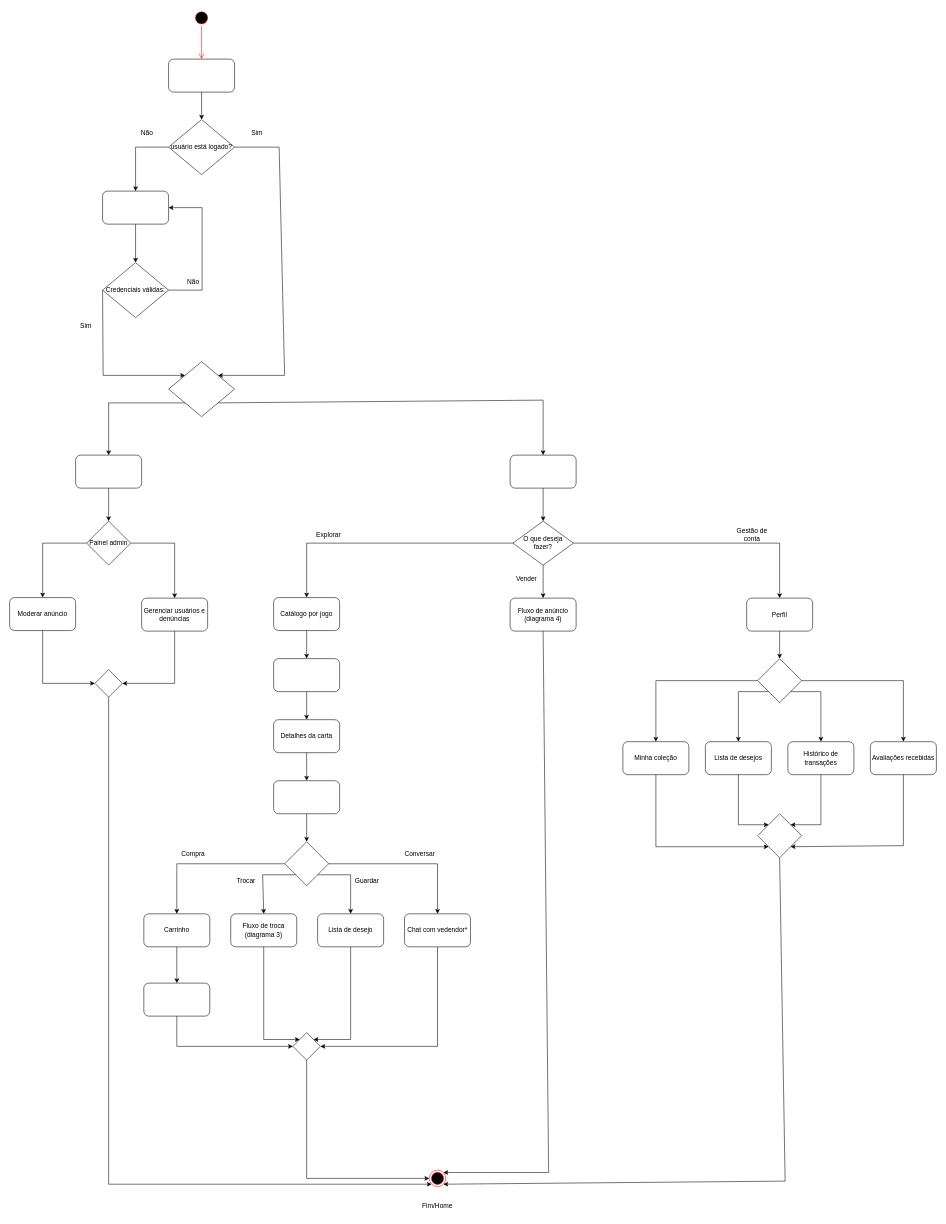
Image size: 946x1224. Some labels were removed from this diagram. The shapes that lost their labels are listed below. From the top down, each one's box as (x1, y1, x2, y2) in pixels, then its label:
(168, 59, 235, 92): HOME
(102, 191, 169, 224): Login / cadastro
(168, 361, 235, 417): Perfil de Acesso
(75, 455, 142, 488): Admin
(510, 455, 576, 488): Usuário
(273, 658, 340, 692): Filtros avançados
(273, 780, 340, 814): Página do anúncio
(284, 841, 329, 886): Ação
(143, 983, 210, 1016): Fluxo de compra (diagrama 2)
